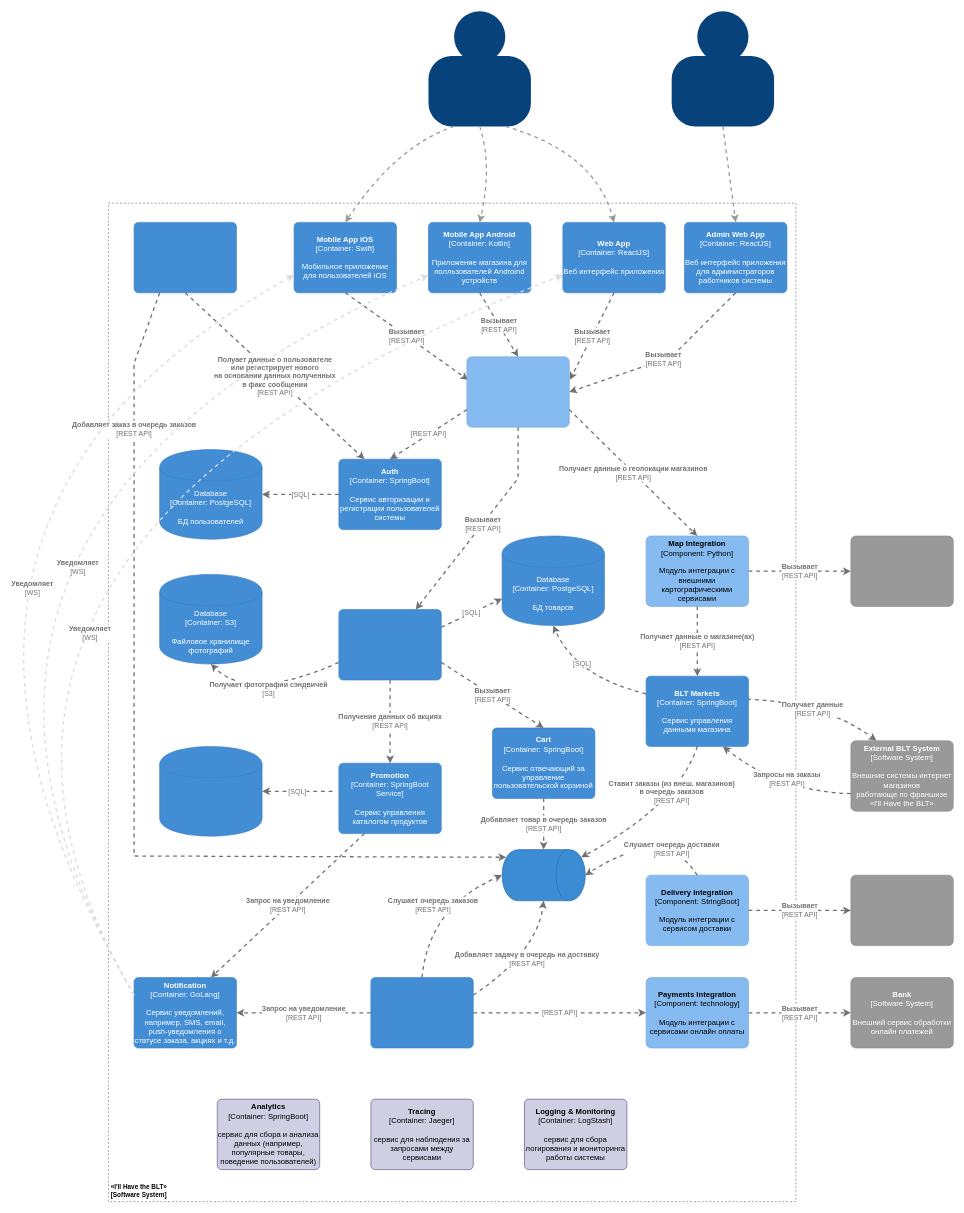
Some shapes in this 964 by 1213 pixel diagram are drawn without their labels. The shapes that lost their labels are listed below. From the top down, each one's centre as x and y in pixels, then its label:
pixel 479 90: Customer [Person] Клиент приложения «I'll Have the BLT»
pixel 722 90: Admin [Person] Администратор приложения «I'll Have the BLT»
pixel 184 257: FAX [Container: Cpp ] Сервис обработки сообщений получаемых через факс
pixel 517 391: Balancer [Component: Nginx ] Балансировщик нагрузки
pixel 901 570: External Map Service [Software System] Внешний картографический сервис
pixel 389 644: Catalog [Container: SpringBoot ] Сервис управления каталогом продуктов
pixel 210 791: Database [Container: H2] БД акций, спецпредложений
pixel 543 875: MQ [Container: RabbitMQ] Очередь запросов
pixel 901 910: External Delivery [Software System] Внешний сервис доставки
pixel 421 1012: Order [Container: SpringBoot ] Сервис обработки заказов из очереди
